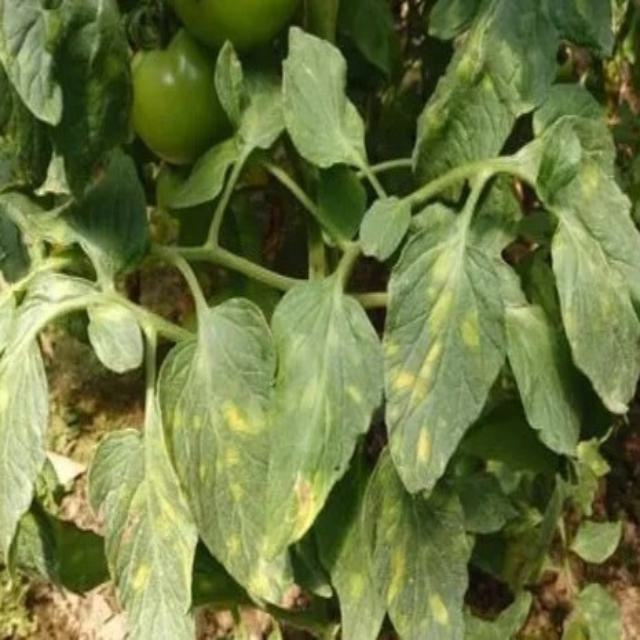Leaf_Mold: (384, 244, 450, 411), (282, 470, 323, 544), (248, 566, 313, 611), (200, 444, 247, 500), (213, 398, 266, 436), (384, 531, 409, 605), (457, 305, 485, 354), (409, 423, 435, 464), (425, 588, 450, 628), (128, 557, 154, 595)
